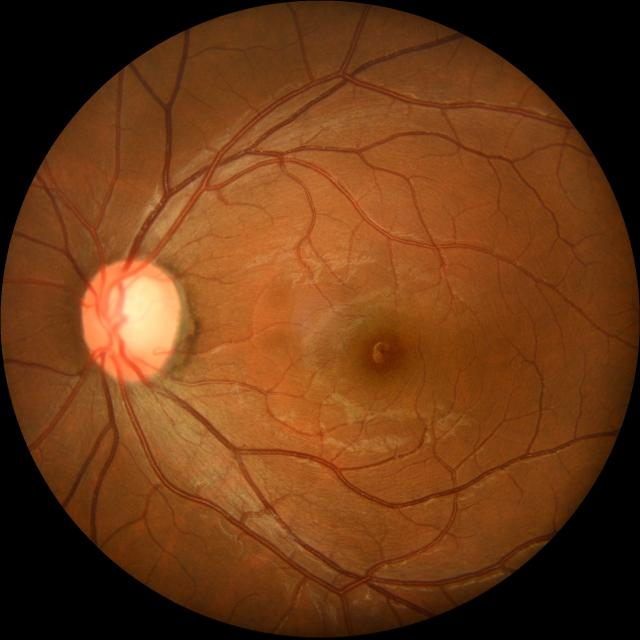OC: (105, 277, 165, 356)
OD: (80, 259, 179, 381)
